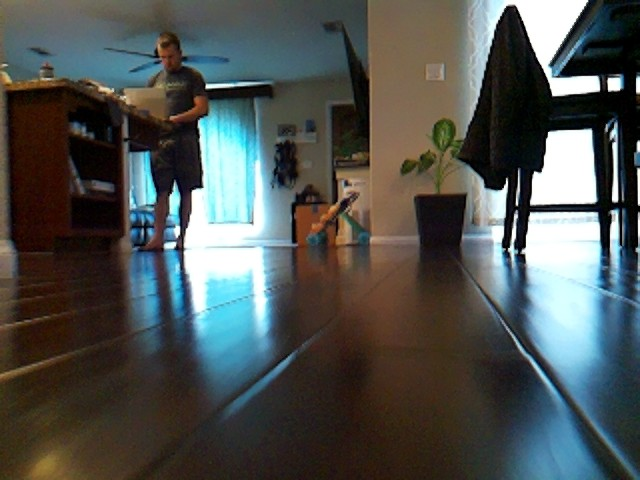Drivable Area: (22, 256, 474, 475), (468, 274, 640, 480), (0, 286, 29, 480), (210, 249, 291, 261)
Obstacle: (487, 10, 636, 260), (139, 24, 205, 251), (417, 183, 466, 246)
